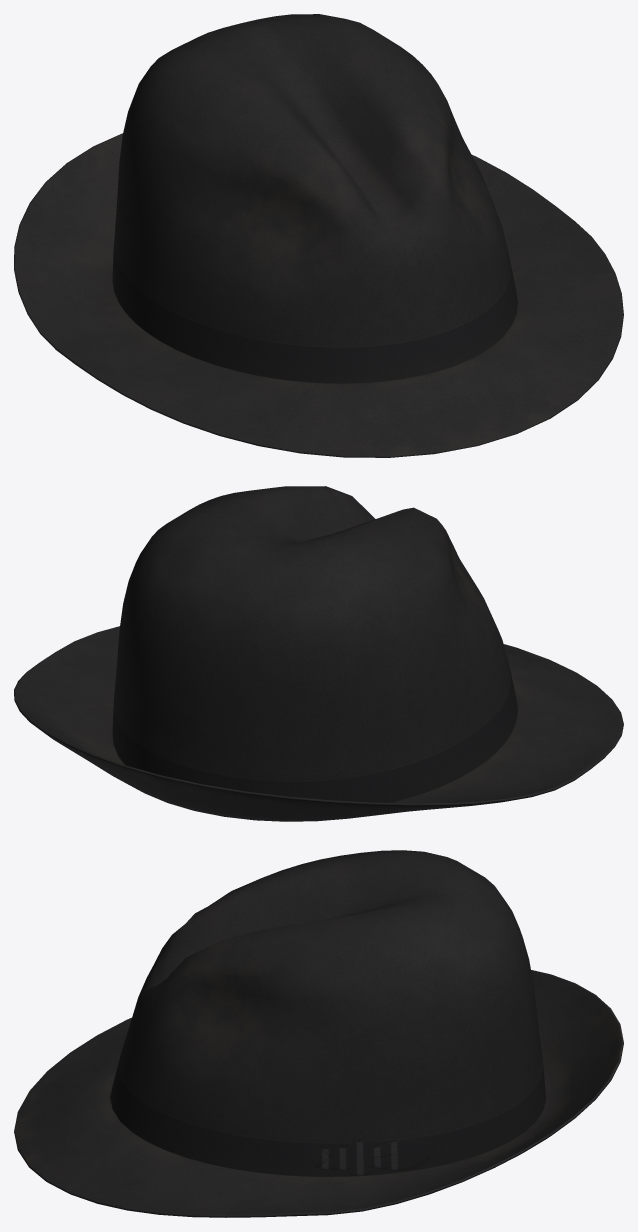
File: trilby.glb
3 views of the same model, one above another, from view 1: azimuth 30°, elevation 25°; view 2: azimuth 150°, elevation 25°; view 3: azimuth 270°, elevation 25° (orthographic). The views are drawn at different scales.
Visible parts, largest first — view 1: trilby; view 2: trilby; view 3: trilby.
Boxes of the visible parts, left/top/right/bottom form: trilby: left=14, top=14, right=623, bottom=457; trilby: left=14, top=486, right=623, bottom=821; trilby: left=14, top=850, right=623, bottom=1217.
Bounding box in the file's own units: 0.2671 × 0.1258 × 0.2815.
Materials: 1 (1 with a texture image).
